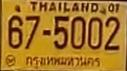0: (70, 15, 85, 48), (87, 16, 102, 49)
2: (104, 16, 119, 50)
5: (53, 15, 68, 48)
6: (7, 14, 22, 48)
7: (24, 15, 40, 49)
BKK: (23, 54, 101, 71)
